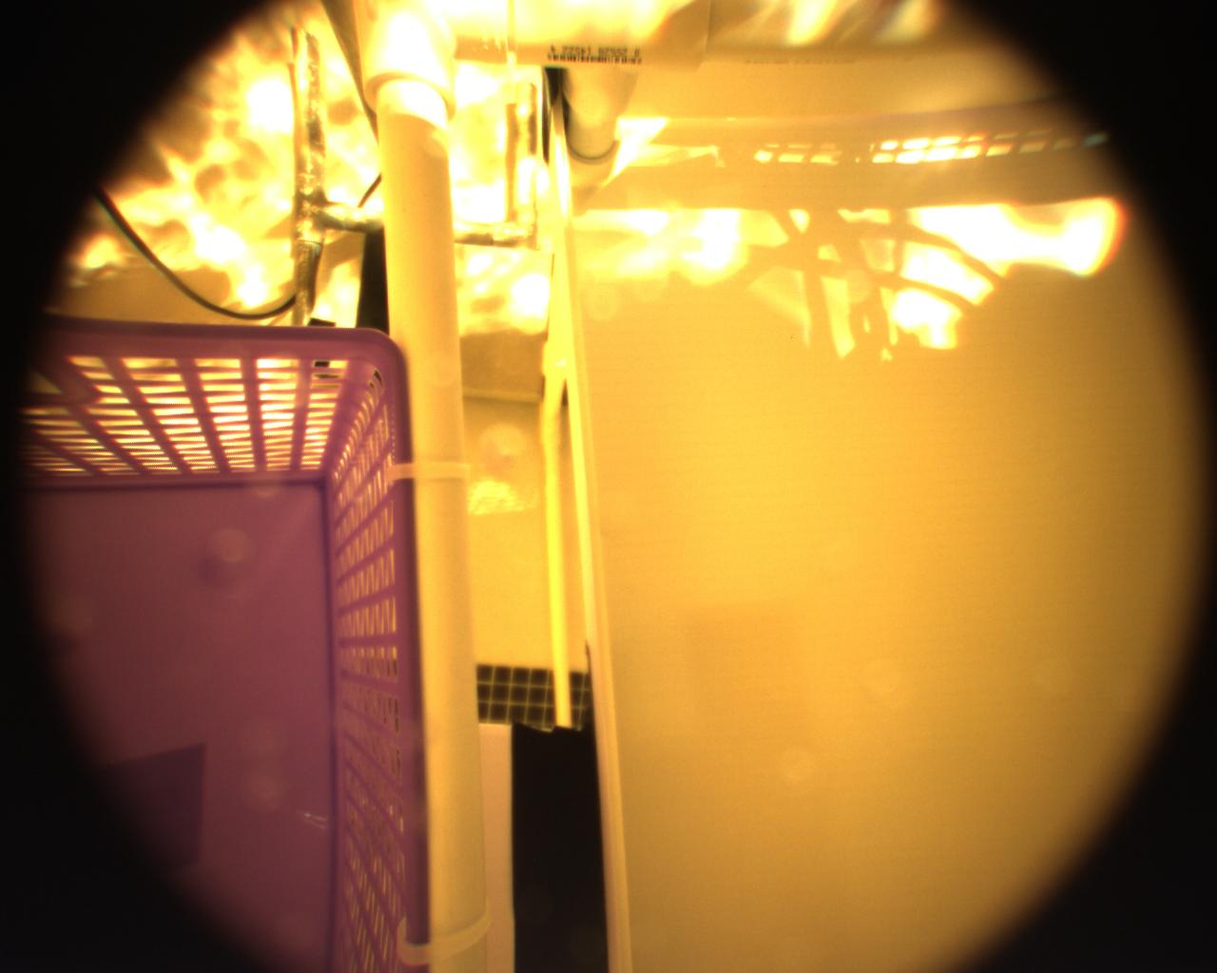coral-box-top: (368, 0, 1217, 973)
